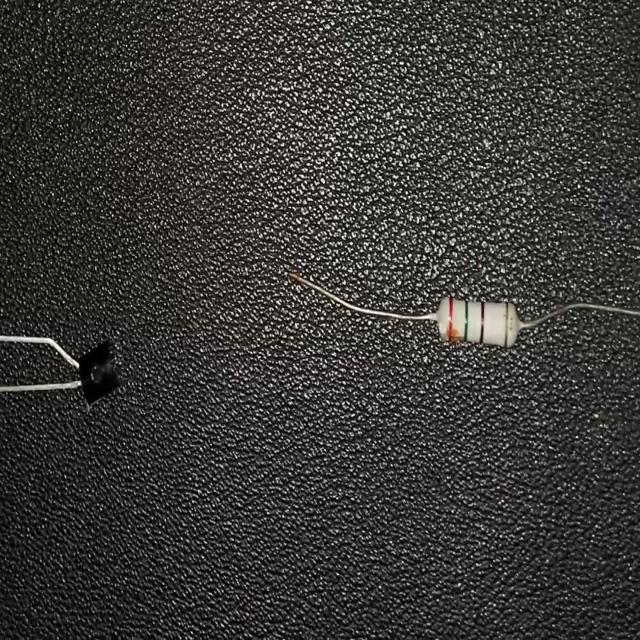burnt: (440, 324, 462, 344)
missing-leg: (0, 331, 124, 412)
resistor: (287, 267, 640, 355)
